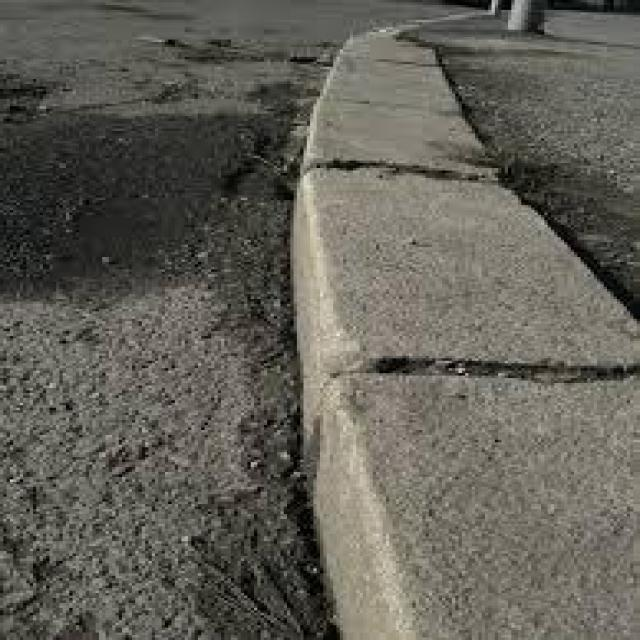curb: (277, 29, 605, 640)
